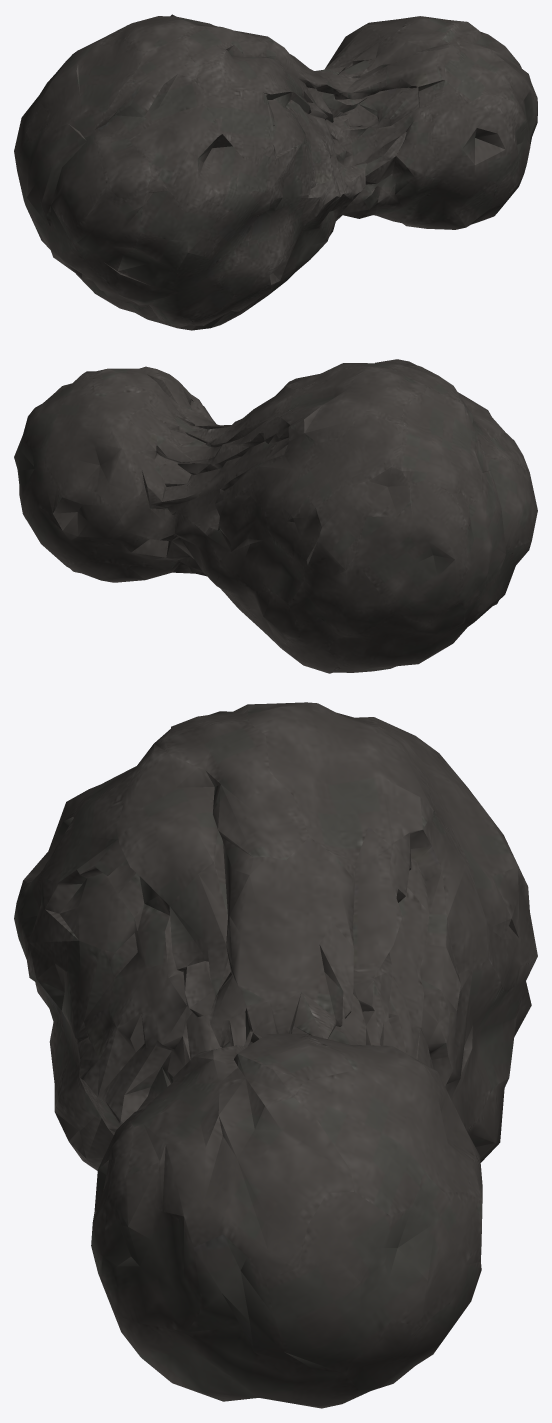
The model's file is carbonaceous_asteroid_05_bilobed_lod1.glb.
3 views of the same model, one above another, from view 1: azimuth 30°, elevation 25°; view 2: azimuth 150°, elevation 25°; view 3: azimuth 270°, elevation 25° (orthographic). The views are drawn at different scales.
Visible parts, largest first — view 1: mesh_node; view 2: mesh_node; view 3: mesh_node.
Boxes of the visible parts, x1,y1,x2,y2 form: mesh_node: [14, 14, 537, 330]; mesh_node: [14, 359, 537, 673]; mesh_node: [14, 702, 537, 1408].
Bounding box in the file's own units: 2 × 1.18 × 1.07.
1 material, 1 textured.
